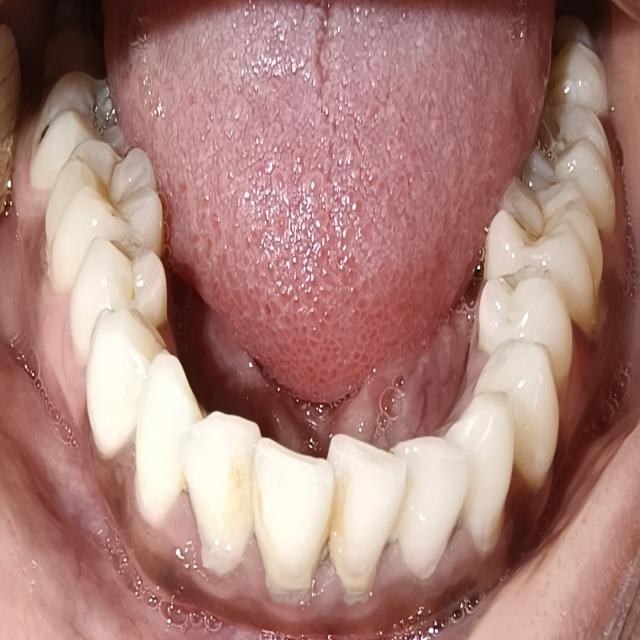processing_area: (107, 0, 552, 406)
